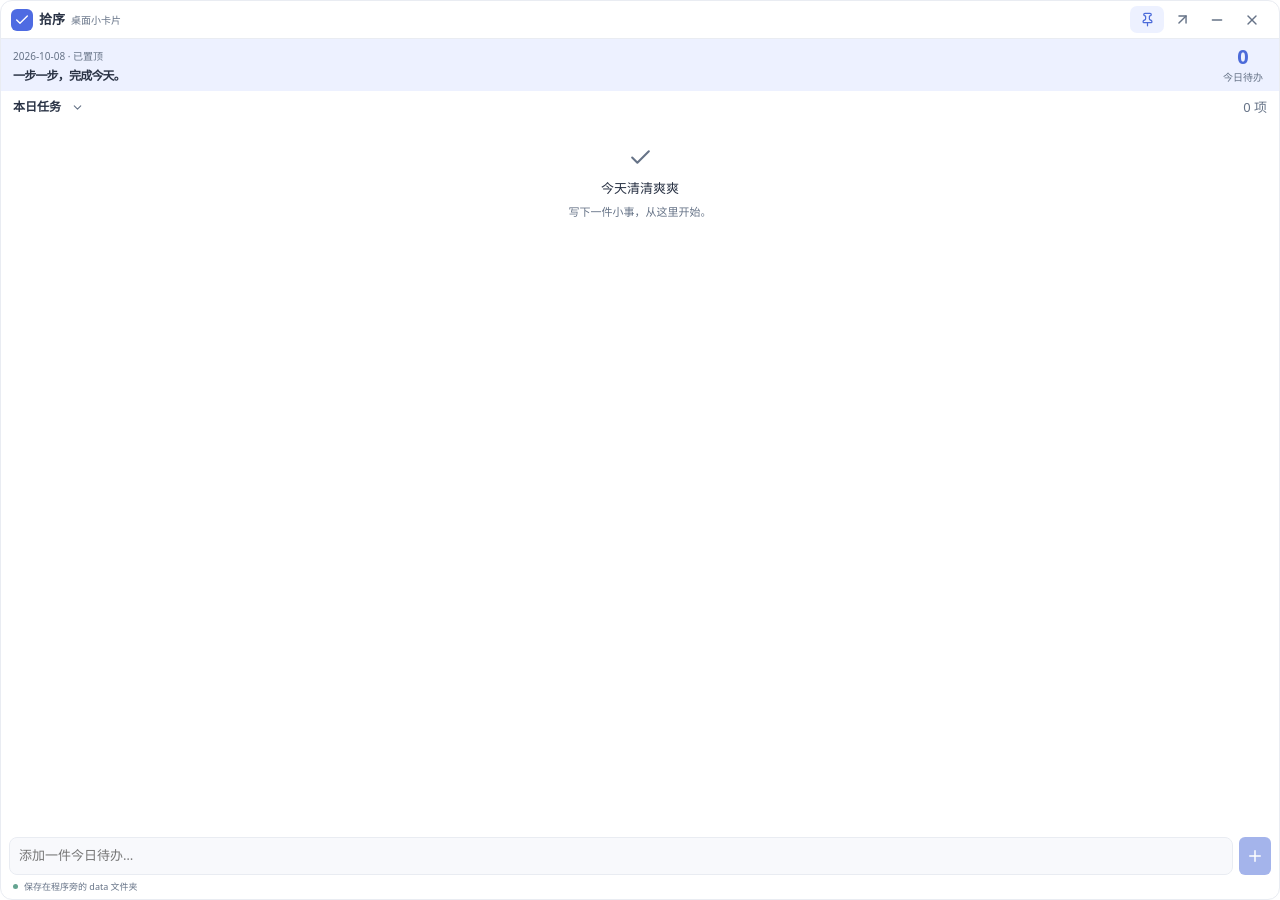
置顶失败保留原状态并显示错误
Step 1. Click the button named "取消置顶" → [1147, 20], box [1130,6,1164,33]
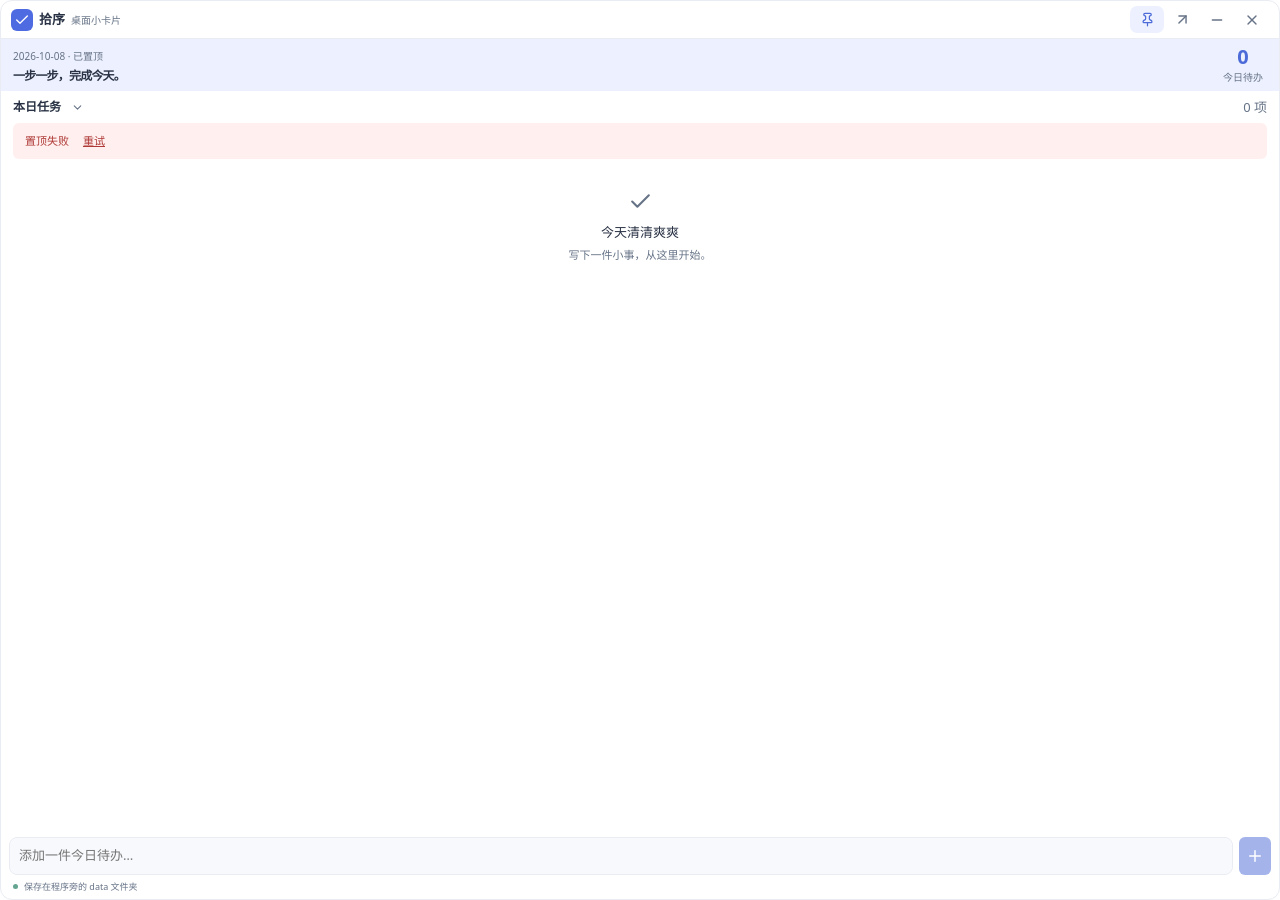
Expected: the message shows "置顶失败", [25,133,69,148]
